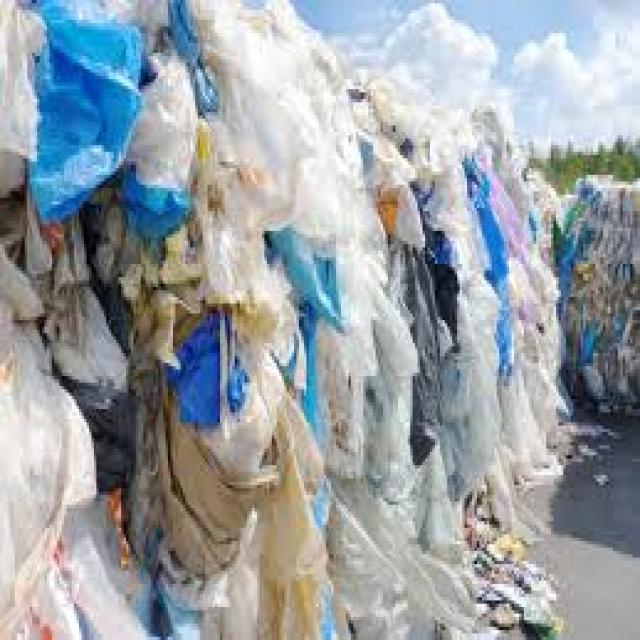plastic: (70, 87, 532, 615)
